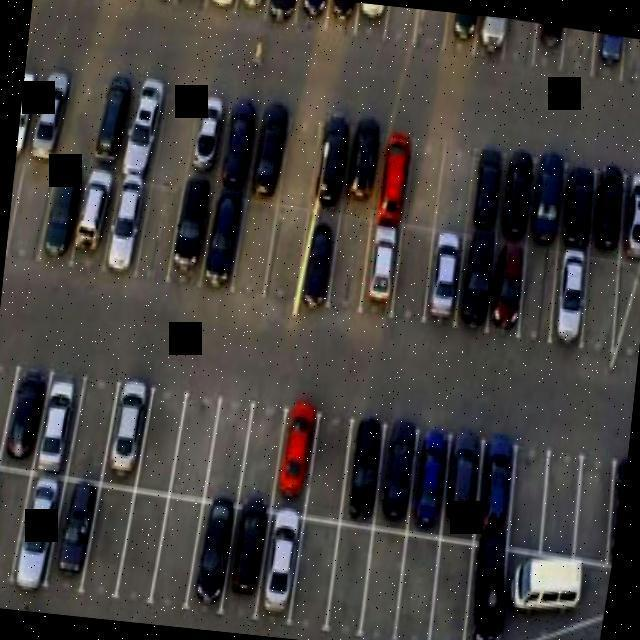space-empty: (116, 487, 170, 605), (325, 519, 377, 634), (80, 483, 132, 595), (303, 415, 355, 527), (132, 391, 187, 492), (289, 521, 341, 627), (422, 537, 475, 640), (533, 450, 583, 559), (6, 147, 56, 256), (504, 439, 551, 554), (360, 528, 408, 640), (151, 82, 203, 185), (392, 532, 441, 640), (202, 403, 253, 506), (154, 502, 202, 611), (398, 126, 446, 231), (569, 458, 615, 567), (326, 207, 372, 316), (172, 398, 220, 501), (236, 405, 284, 508), (231, 196, 279, 299), (431, 135, 480, 235), (265, 197, 310, 300), (55, 67, 103, 163), (277, 114, 326, 208), (135, 183, 184, 277), (71, 382, 115, 483), (517, 237, 560, 336), (577, 261, 619, 362), (390, 223, 433, 317), (606, 259, 640, 364), (0, 461, 25, 578), (495, 17, 542, 70), (558, 27, 602, 83), (381, 5, 422, 43), (0, 367, 15, 468), (413, 9, 449, 50), (616, 35, 640, 82)
space-occupied: (8, 474, 65, 592), (256, 514, 308, 626), (270, 402, 322, 514), (220, 508, 273, 617), (489, 138, 543, 242), (29, 373, 80, 482), (187, 497, 235, 612), (0, 362, 49, 474), (437, 434, 484, 549), (51, 476, 97, 592), (102, 384, 153, 487), (543, 248, 594, 351), (293, 209, 344, 312), (455, 545, 508, 640), (200, 185, 246, 294), (169, 170, 215, 279), (119, 71, 165, 180), (38, 158, 84, 267), (90, 67, 136, 176), (212, 93, 260, 196), (338, 112, 385, 217), (522, 149, 571, 249), (452, 228, 499, 331), (103, 175, 151, 274), (372, 425, 417, 528), (71, 168, 116, 271), (474, 442, 518, 547), (461, 140, 509, 236), (584, 165, 633, 259), (556, 155, 602, 254), (370, 119, 414, 220), (183, 85, 227, 186), (244, 102, 291, 196), (24, 67, 70, 163), (406, 433, 451, 529), (485, 235, 530, 331), (341, 419, 384, 518), (421, 222, 464, 321), (310, 113, 351, 212), (359, 216, 398, 309), (598, 457, 627, 580), (15, 64, 42, 165), (527, 22, 571, 75), (585, 31, 629, 84), (616, 168, 640, 258), (438, 12, 482, 61), (347, 2, 392, 47), (470, 14, 510, 62), (320, 0, 362, 42), (258, 0, 298, 38), (292, 0, 335, 32), (234, 0, 273, 31), (201, 0, 243, 18), (171, 0, 213, 13), (110, 0, 152, 9), (144, 0, 180, 8)
